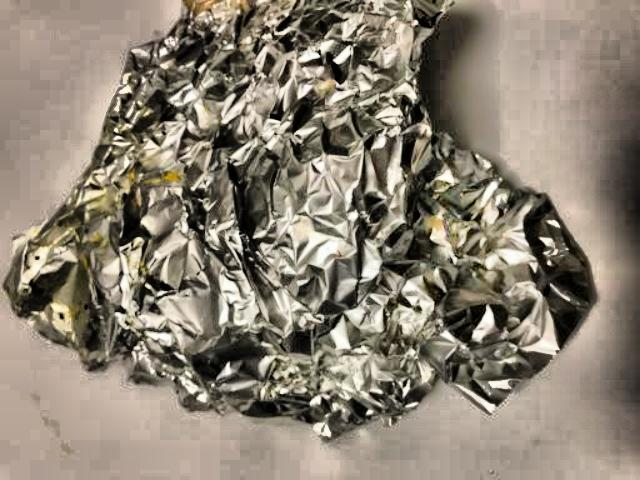Almennt: (0, 0, 603, 439)
